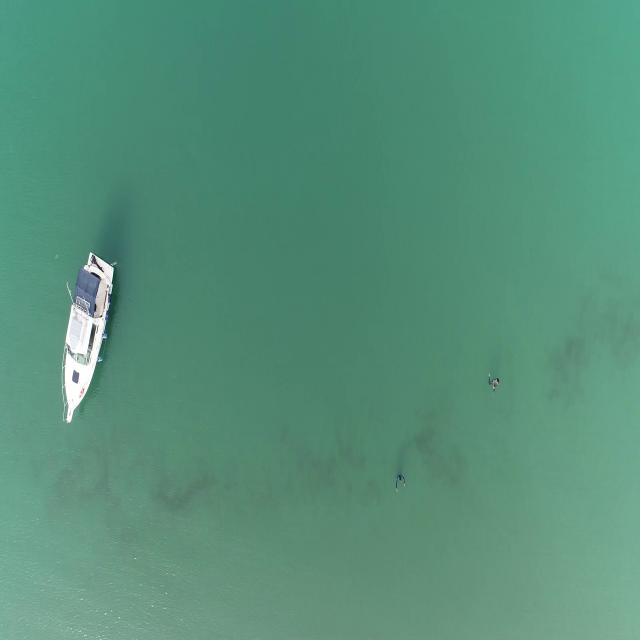boat: (57, 252, 118, 427)
person: (394, 473, 407, 496), (488, 372, 500, 396)
